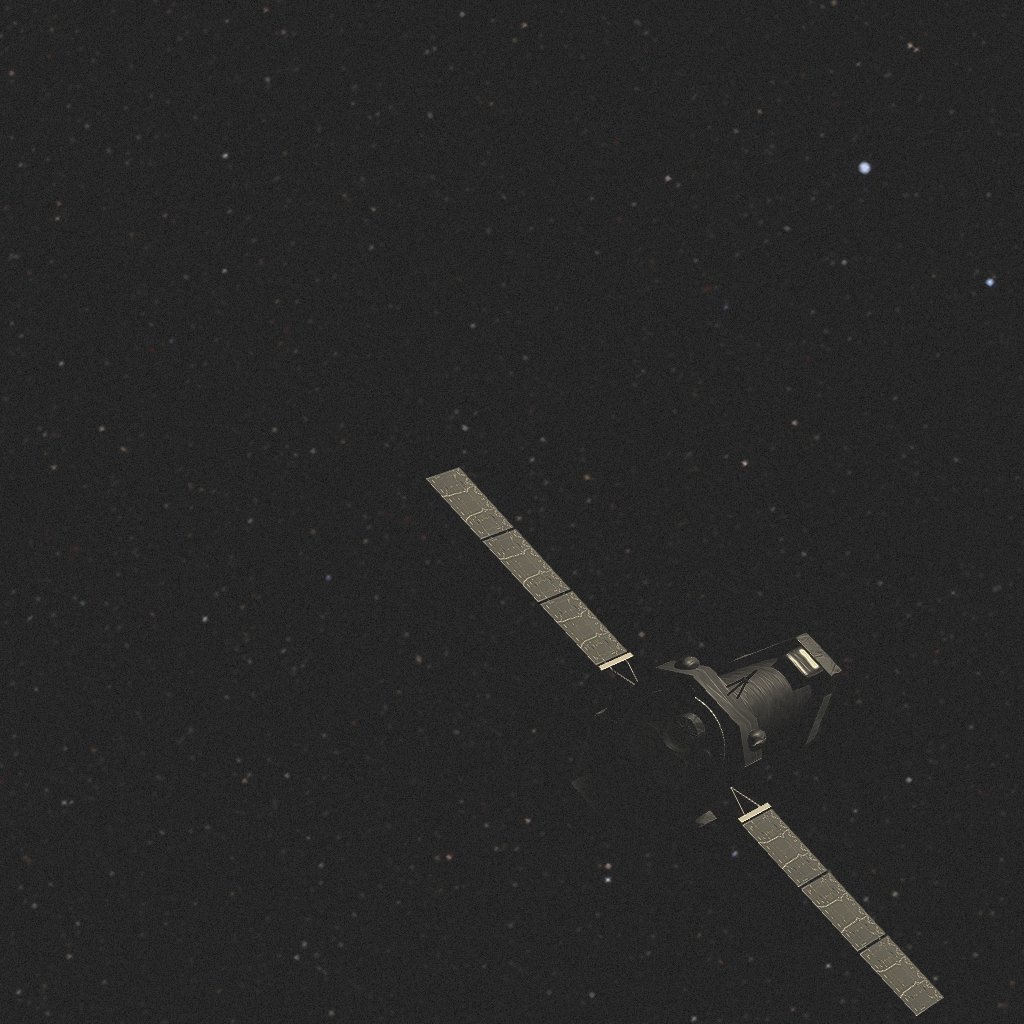xmm_newton: (425, 467, 944, 1024)
